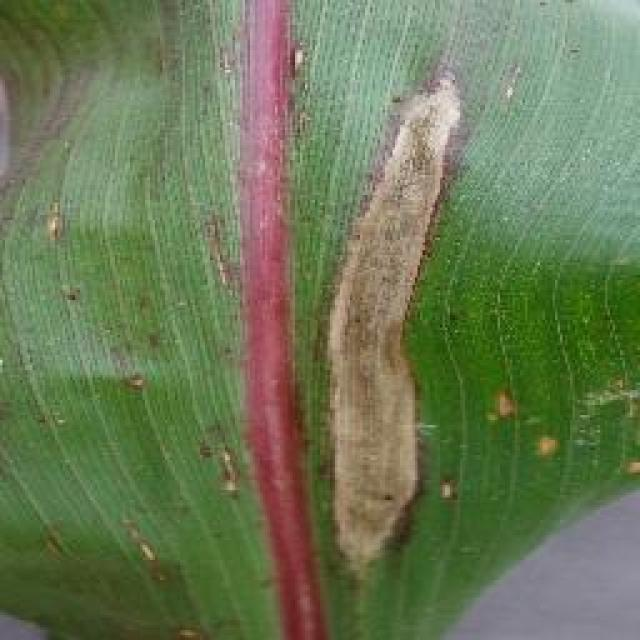Corn___Northern_Leaf_Blight: (0, 0, 635, 640), (390, 0, 640, 635)
